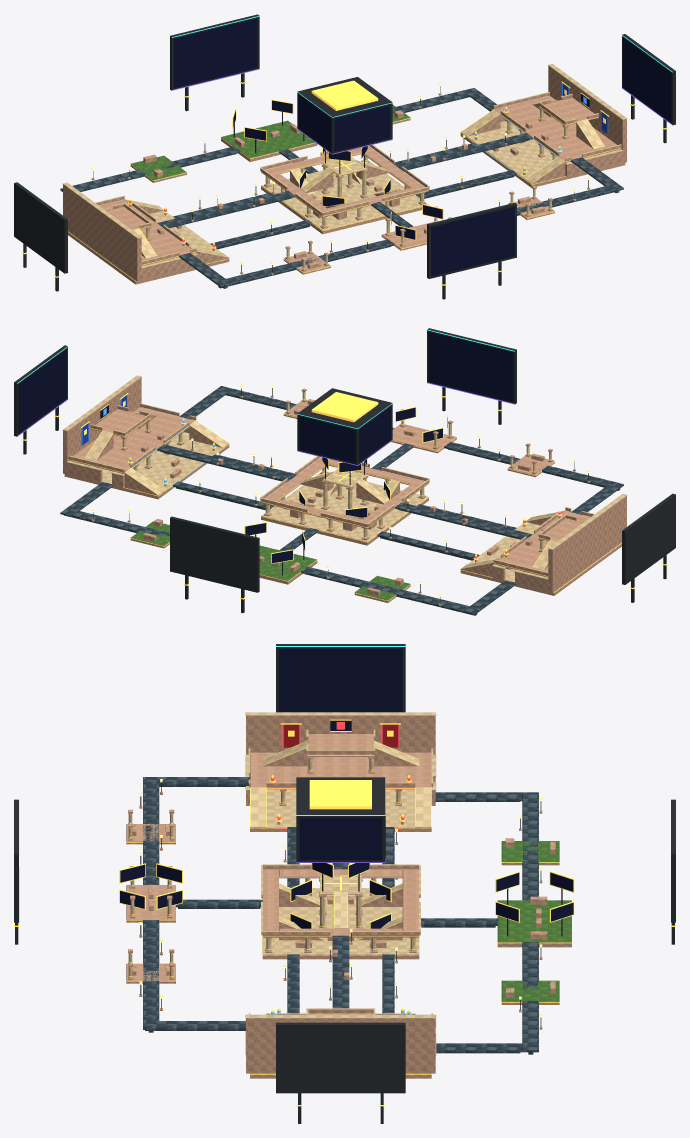
Rendered from skyreach_map.glb.
3 renders of one model, top to bottom at view 1: azimuth 30°, elevation 25°; view 2: azimuth 150°, elevation 25°; view 3: azimuth 270°, elevation 25°, orthographic. The views are drawn at different scales.
Visible parts, largest first — view 1: skyreach_map; view 2: skyreach_map; view 3: skyreach_map.
Part boxes in pixels (box(x1,y1,x2,y2)): skyreach_map: box(14, 14, 675, 299); skyreach_map: box(14, 328, 675, 615); skyreach_map: box(14, 644, 675, 1123).
Size of the model in its own units: 218 by 37.67 by 160.
17 materials, 5 textured.
